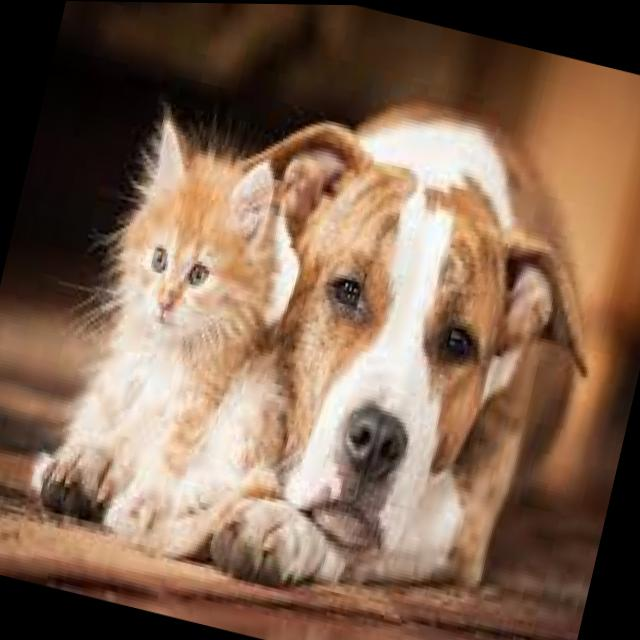Cat: (34, 105, 300, 558)
Dog: (217, 111, 602, 630)
